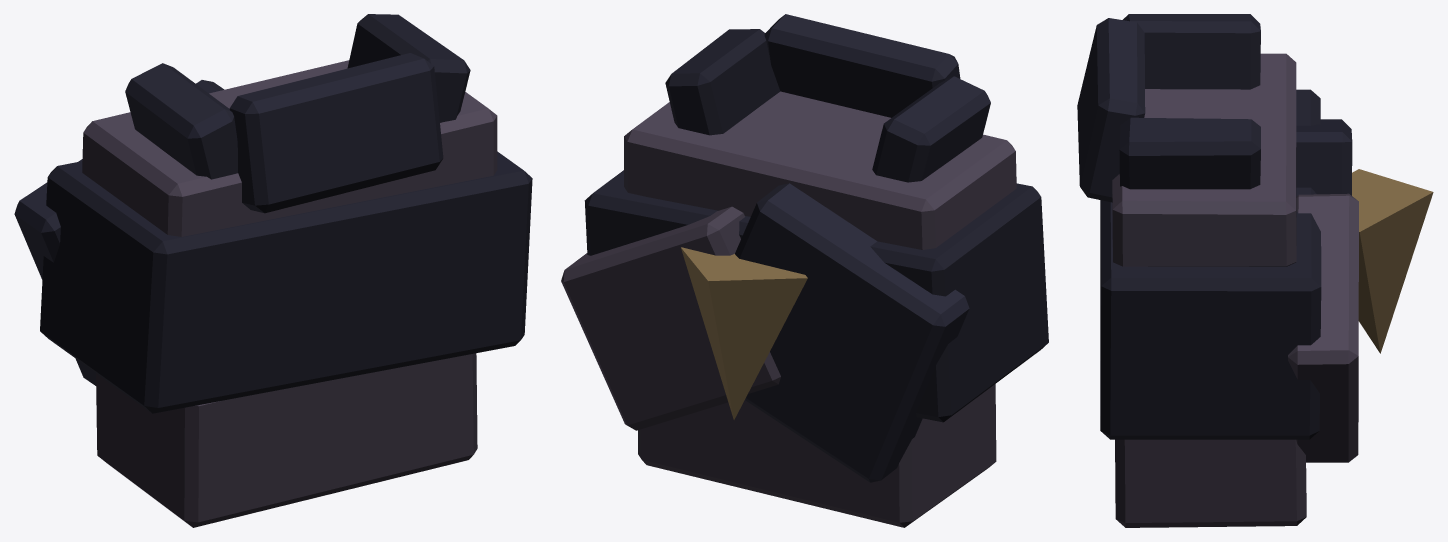
Rendered from soberano_torso.fbx.
3 views of the same model, side by side, from view 1: azimuth 30°, elevation 25°; view 2: azimuth 150°, elevation 25°; view 3: azimuth 270°, elevation 25° (orthographic). The views are drawn at different scales.
Parts seen in each view (by area): view 1: soberano_torso; view 2: soberano_torso; view 3: soberano_torso.
Boxes of the visible parts, x1=… form: soberano_torso: x1=14, y1=14, x2=532, y2=527; soberano_torso: x1=561, y1=14, x2=1048, y2=527; soberano_torso: x1=1077, y1=14, x2=1433, y2=527.
Size of the model in its own units: 3.19 by 3.17 by 2.52.
